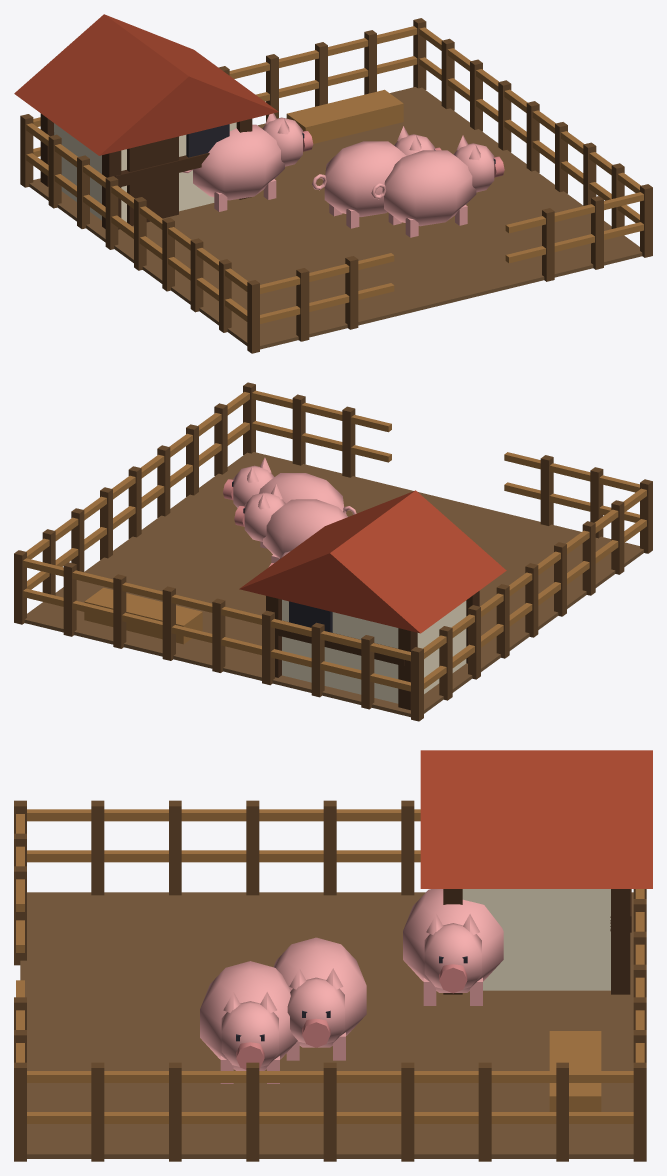
File: schweinezucht.glb
3 views of the same model, one above another, from view 1: azimuth 30°, elevation 25°; view 2: azimuth 150°, elevation 25°; view 3: azimuth 270°, elevation 25° (orthographic). The views are drawn at different scales.
Size of the model in its own units: 4.95 by 1.73 by 4.95.
